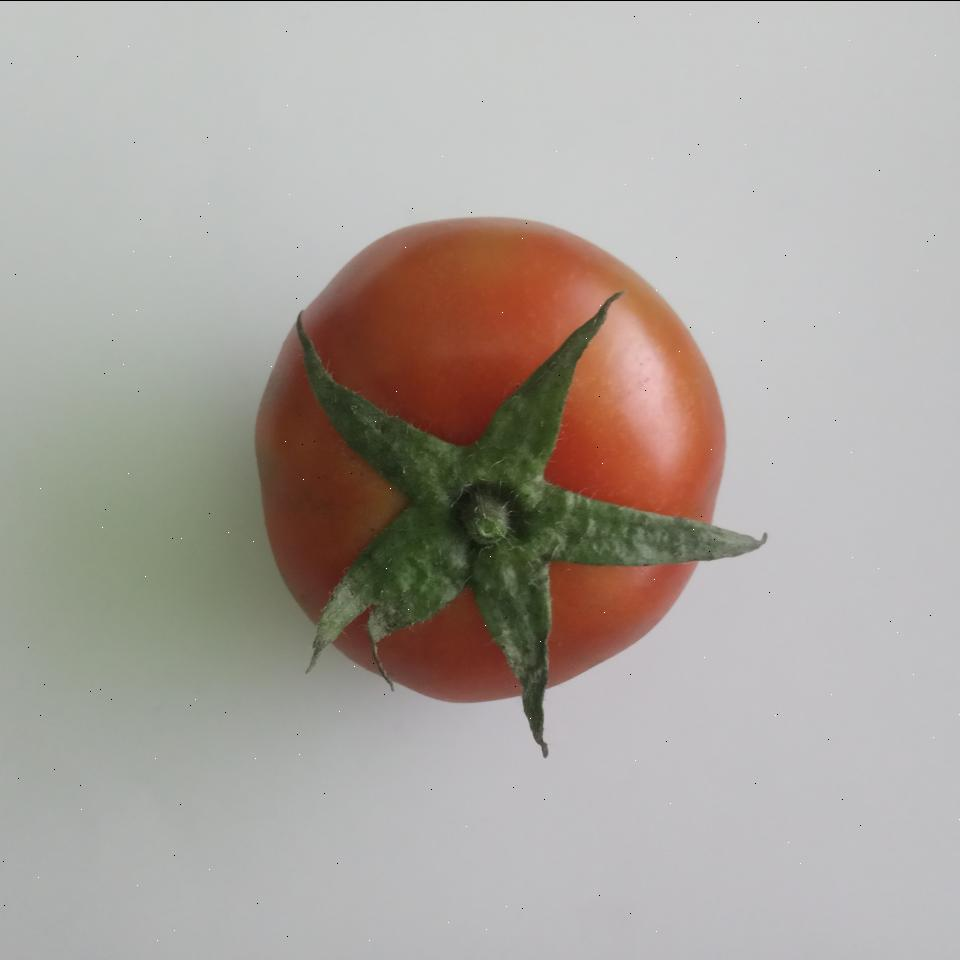Healthy: (246, 209, 738, 710)
